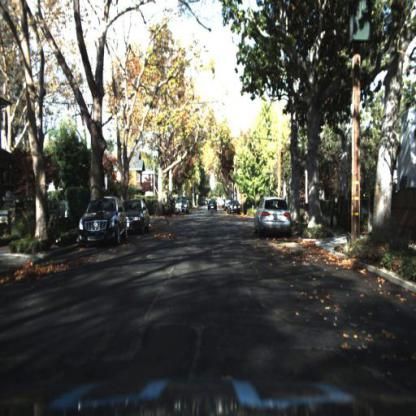car: (77, 196, 131, 250), (256, 194, 295, 240), (120, 199, 151, 235), (128, 197, 152, 239), (225, 198, 243, 214), (228, 198, 243, 217), (175, 199, 191, 216), (207, 197, 221, 213)
